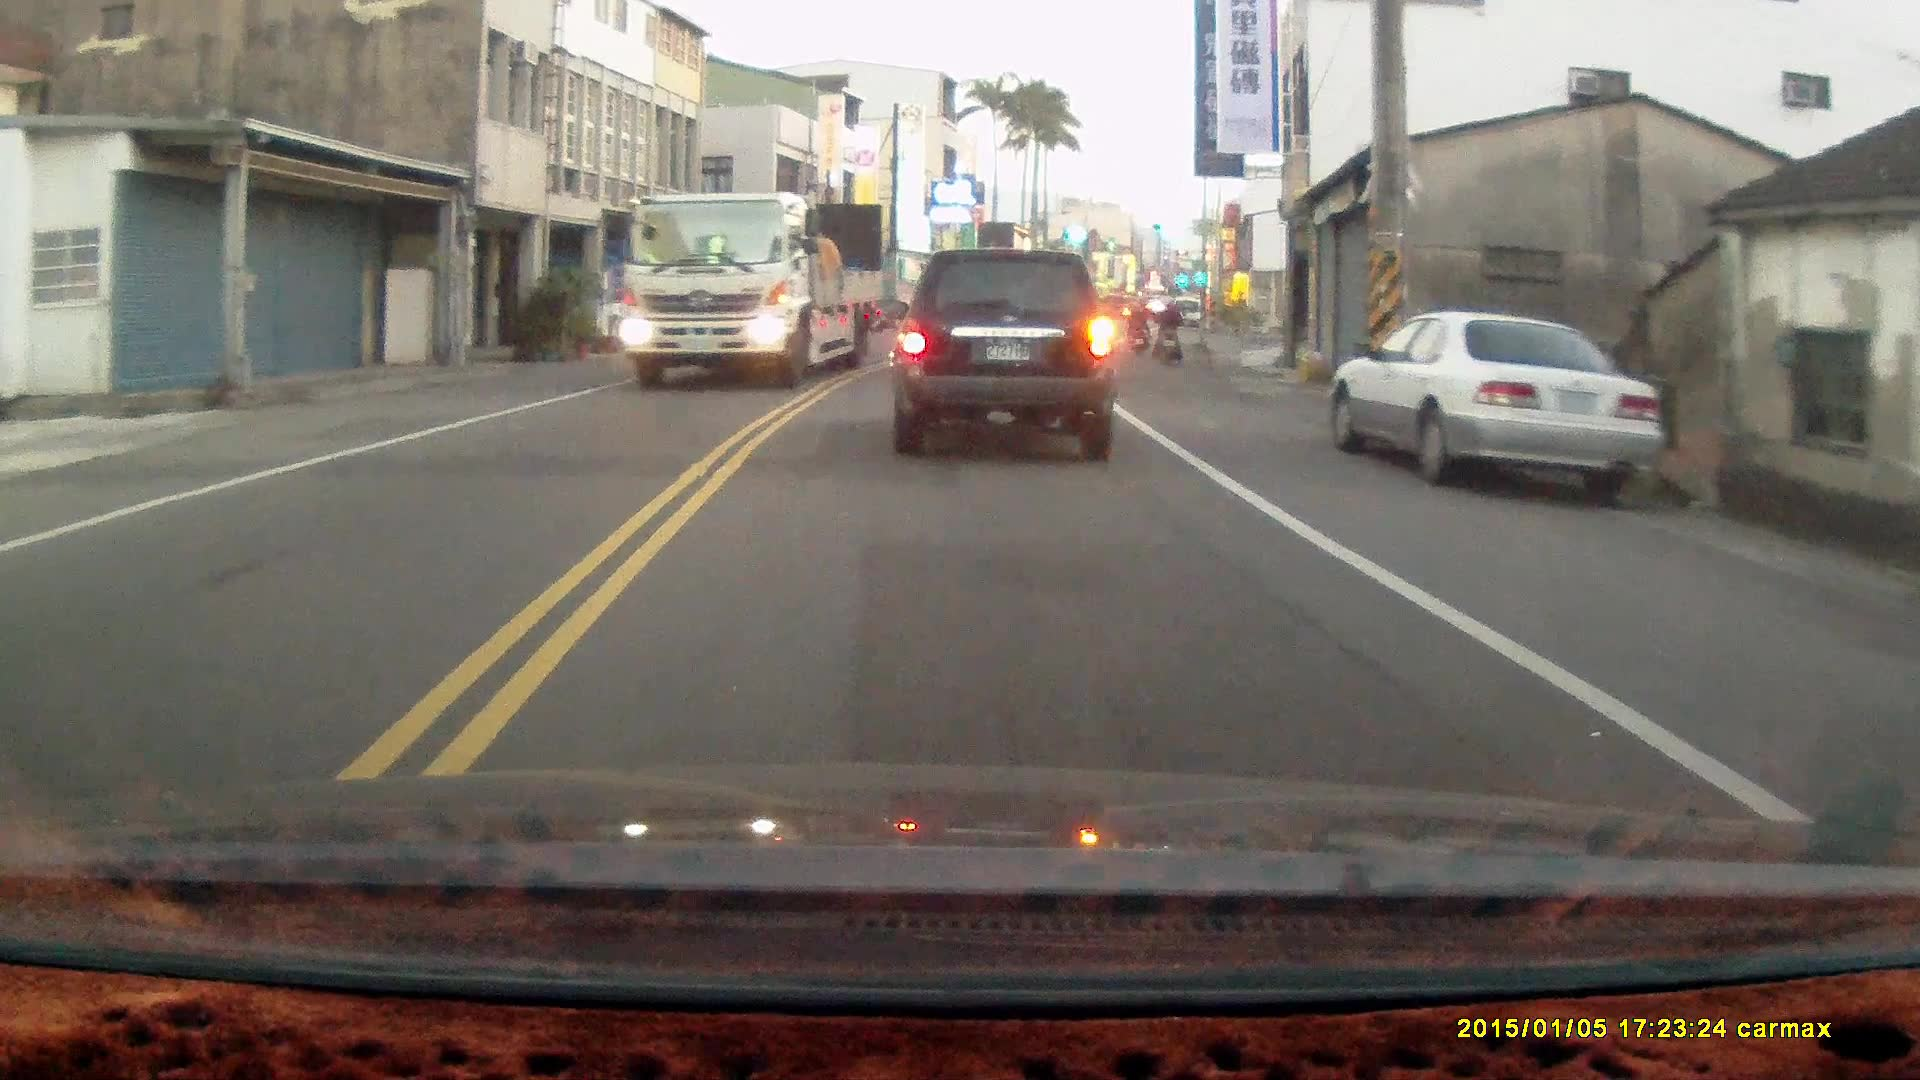rider: (1152, 293, 1183, 370), (1124, 294, 1150, 358)
vehicle: (1332, 312, 1662, 499), (621, 189, 889, 389), (892, 245, 1119, 457)
